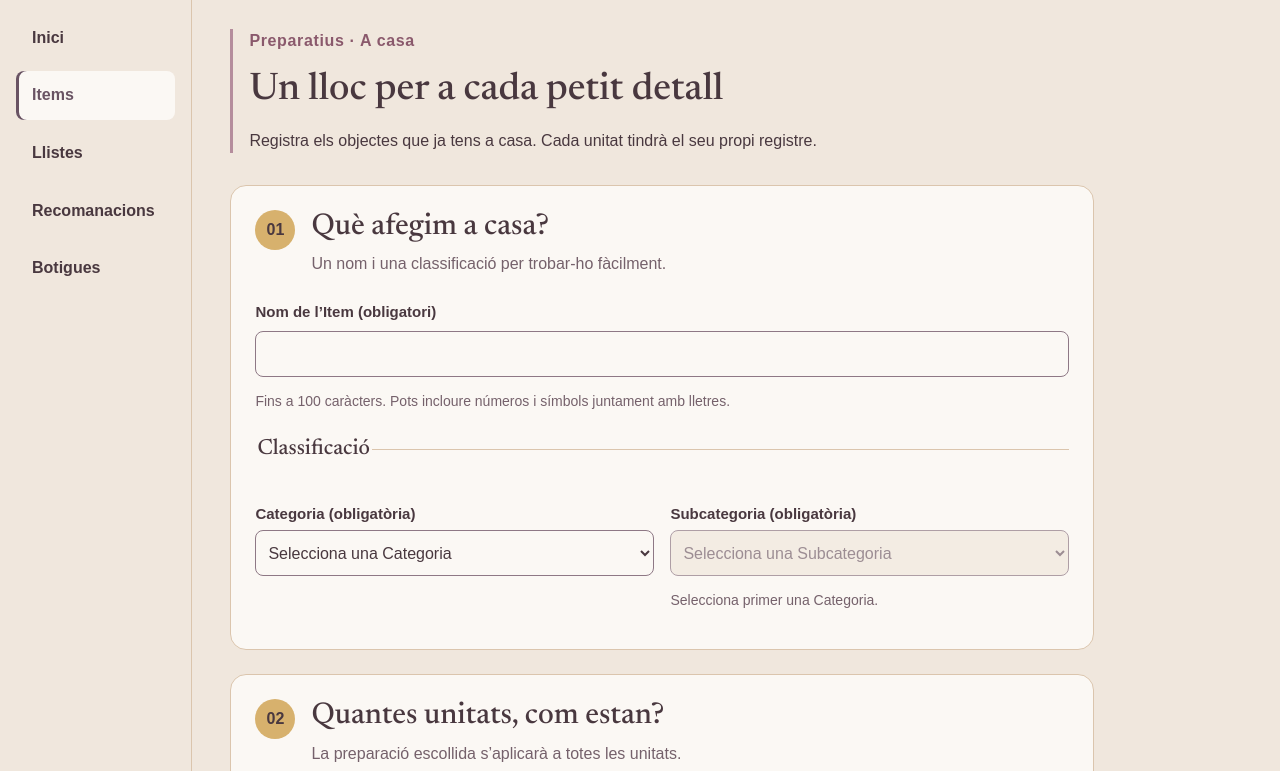
it: enviament únic pendent, cinc camps i confirmació real sense blocker
The width and height of the screenshot is (1280, 771).
In the field labelled "Nom de l’Item (obligatori)": {"x": 662, "y": 354} x1=255 y1=331 x2=1069 y2=377, type "Body"
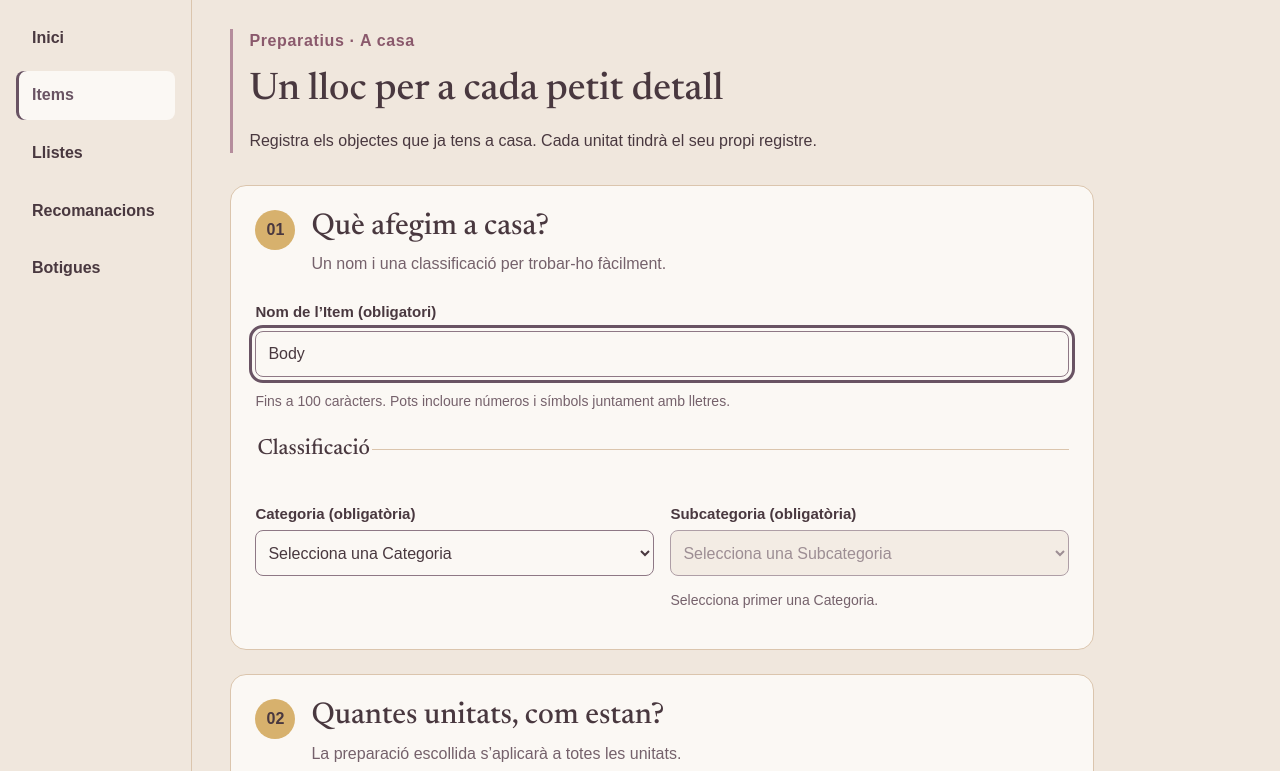
Select "Roba" in the dropdown labelled "Categoria (obligatòria)": {"x": 455, "y": 553} x1=255 y1=530 x2=654 y2=576
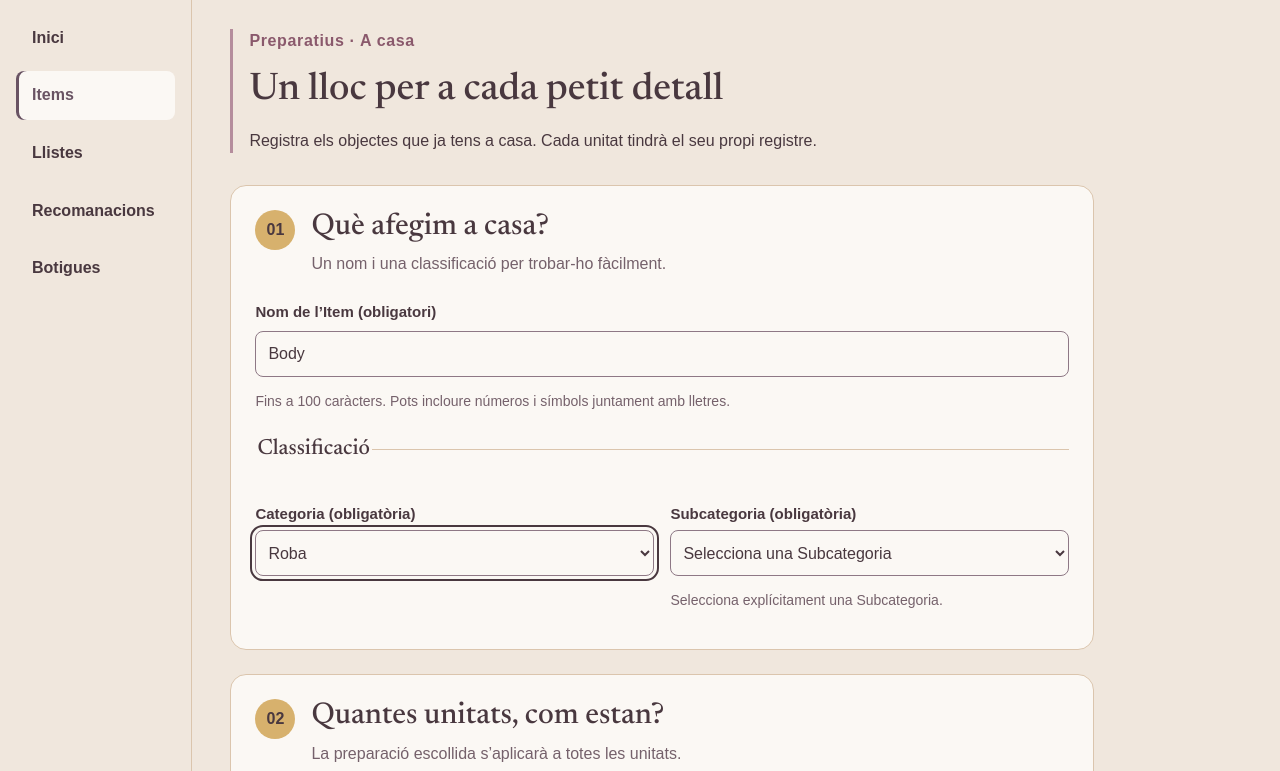
Select "Bodies" in the dropdown labelled "Subcategoria (obligatòria)": {"x": 870, "y": 553} x1=670 y1=530 x2=1069 y2=576
(page scrolled)
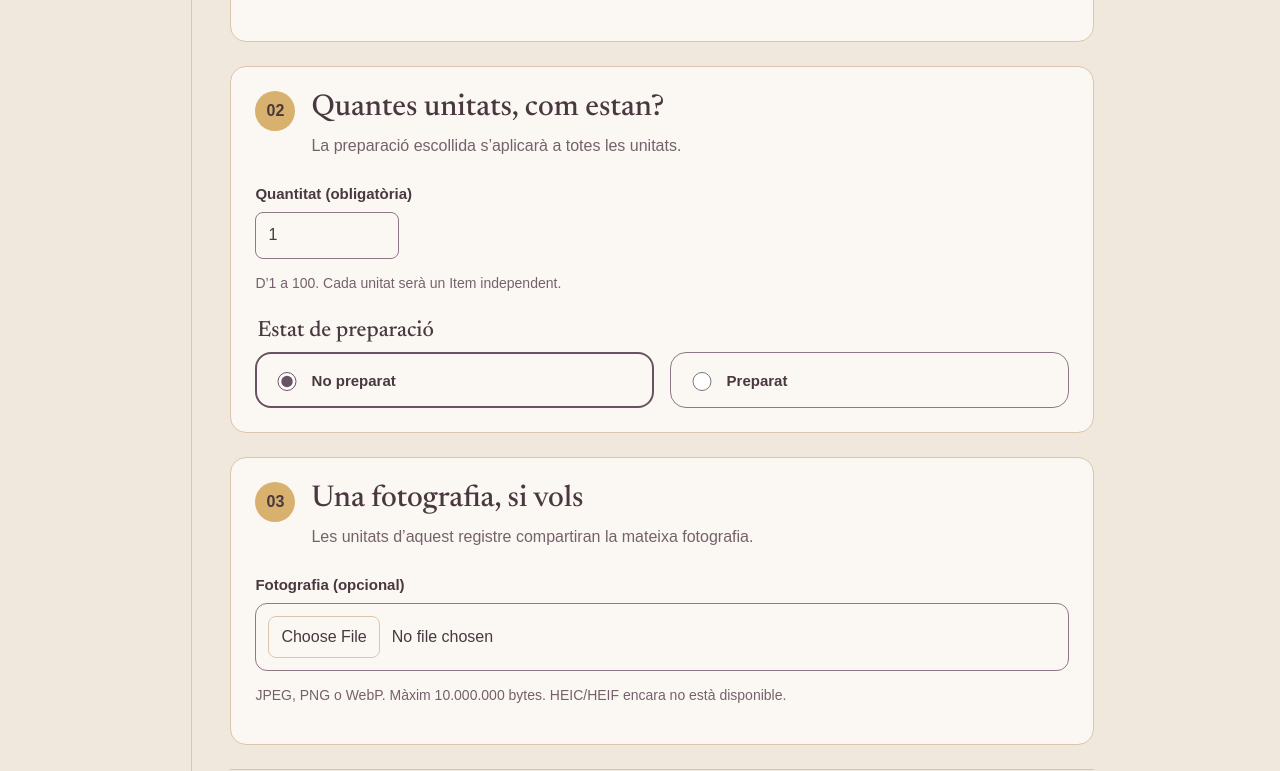
Click the radio button labelled "Preparat": {"x": 702, "y": 382} x1=692 y1=372 x2=712 y2=391
(page scrolled)
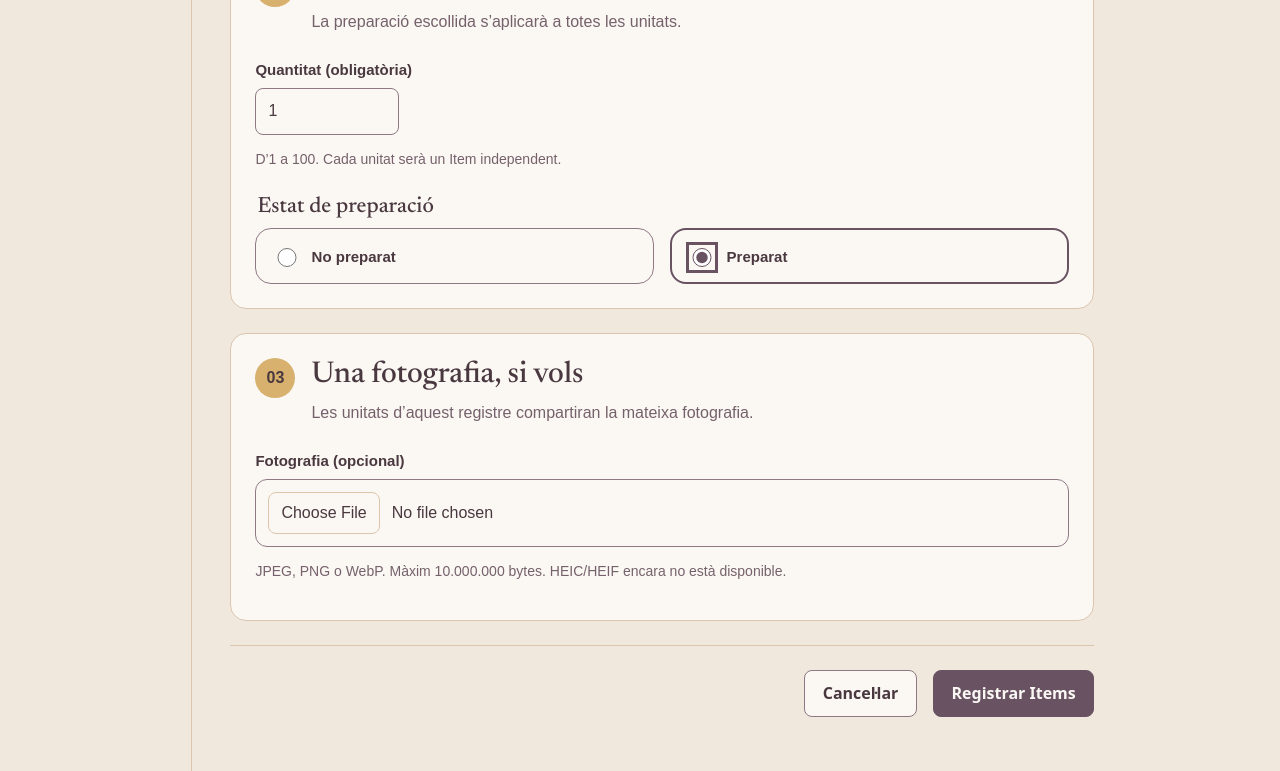
Double-click the button "Registrar Items": {"x": 1014, "y": 694} x1=933 y1=670 x2=1094 y2=717
(page scrolled)
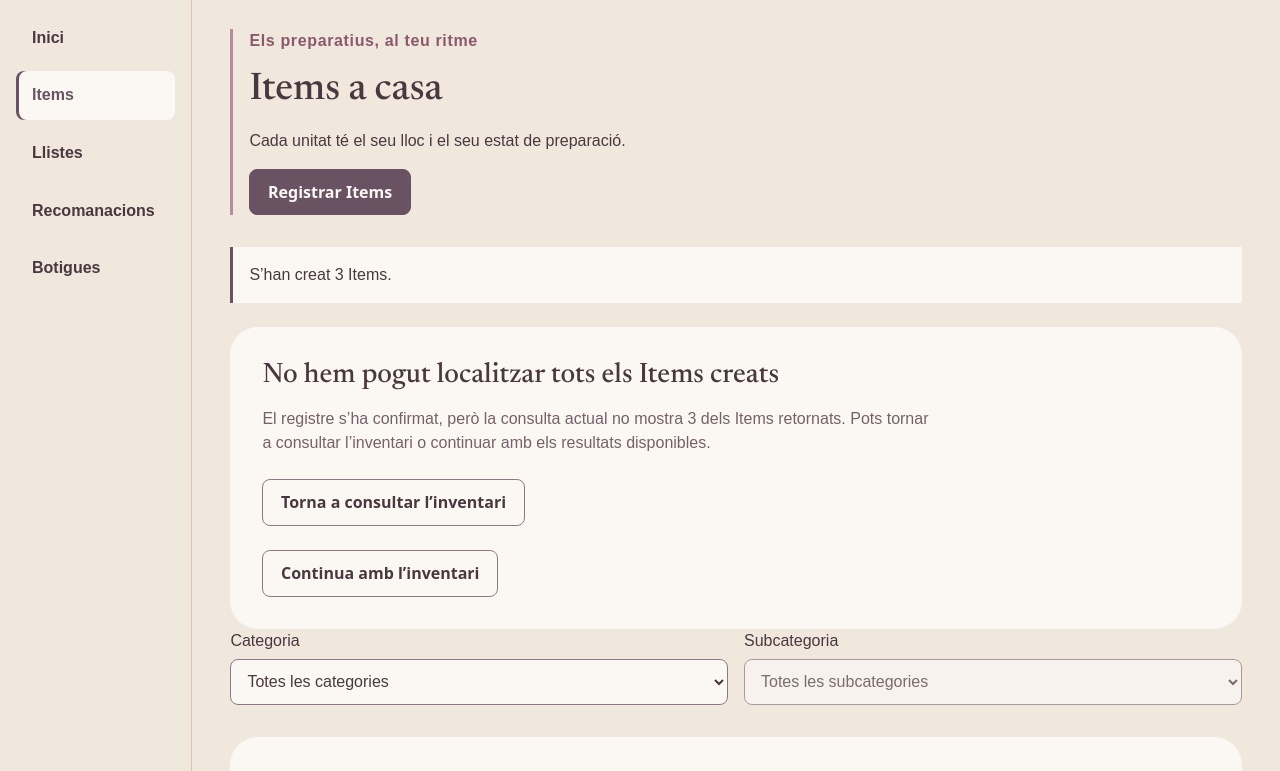
Expected: the text "S’han creat 3 Items." is shown, x1=230 y1=248 x2=1242 y2=304
